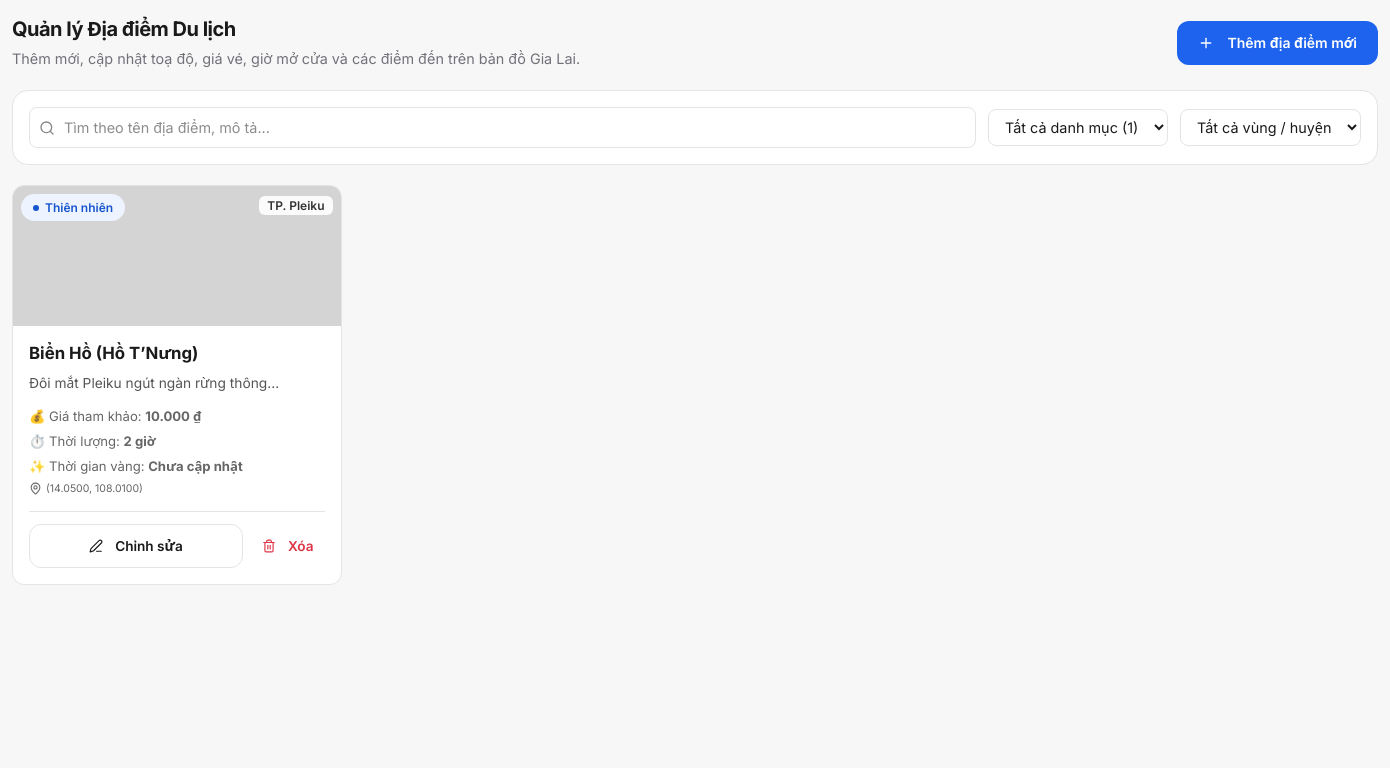
Test case: Admin Places CRUD (AdminPlacesManager) › hiển thị danh sách địa điểm và lọc theo từ khóa
Expected: the heading "Biển Hồ (Hồ T’Nưng)" is shown, [29,343,198,363]
Expected: the text "10.000 ₫" is shown, [145,408,202,424]
Type "Không tồn tại" into the search field with placeholder "Tìm theo tên địa điểm, mô tả..." at (502, 128), box [29,107,976,148]
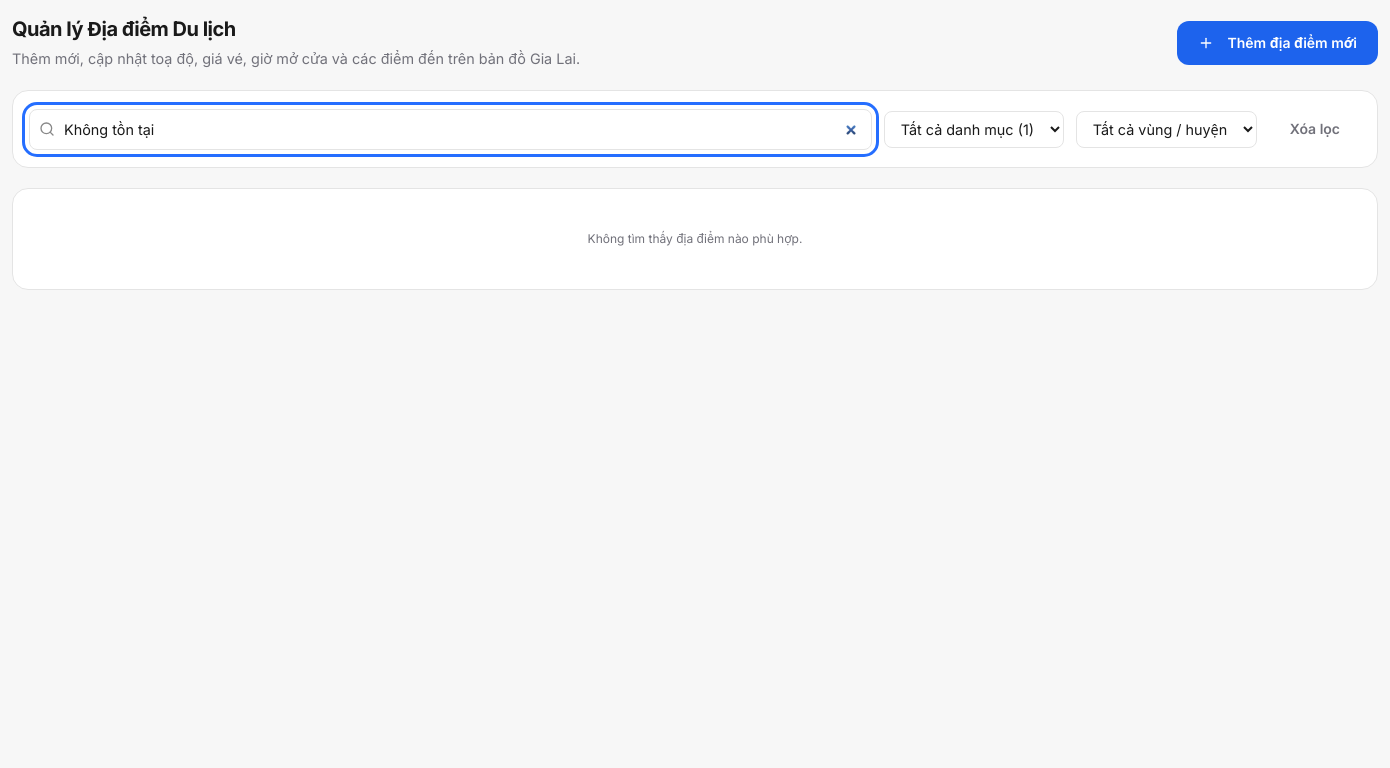
Now the text "Không tìm thấy địa điểm nào phù hợp." is shown, box [588,231,802,246]
